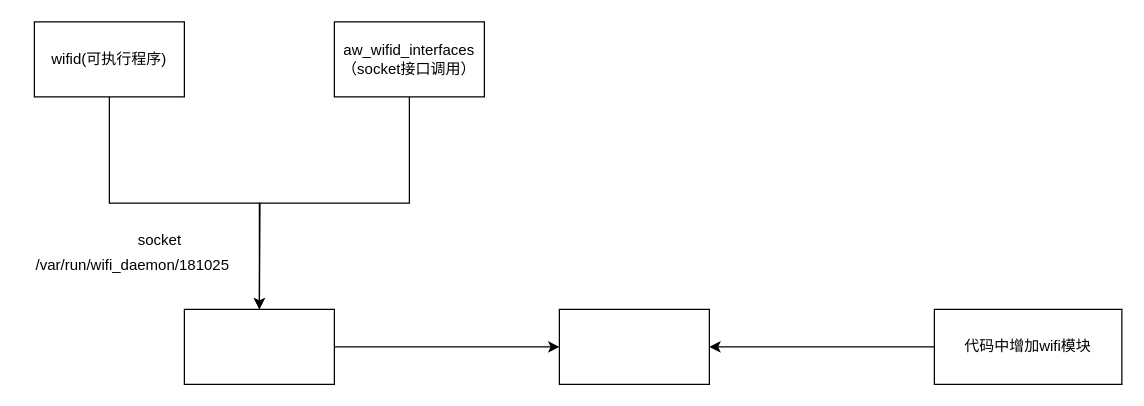
Image size: 1144x406. Some labels were removed from this diagram. Each missing label, with the box of its shape:
wifi_daemon: (183, 308, 334, 384)
wpa_supplicant: (558, 308, 709, 384)
